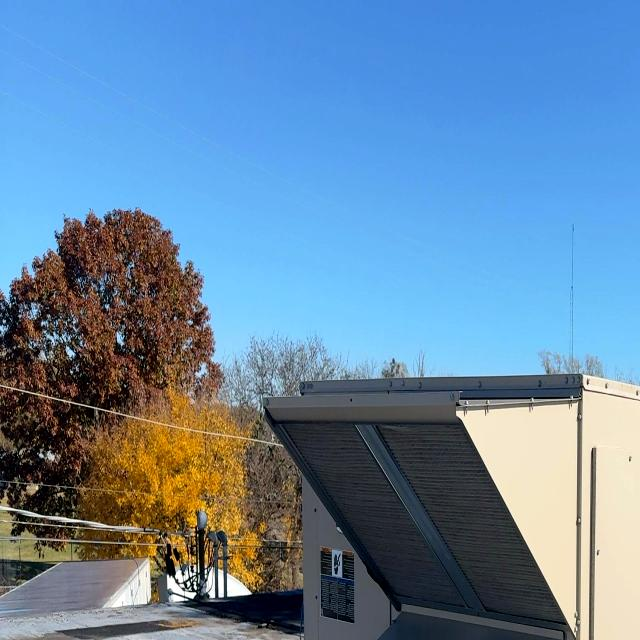RTU: (253, 371, 639, 640)
